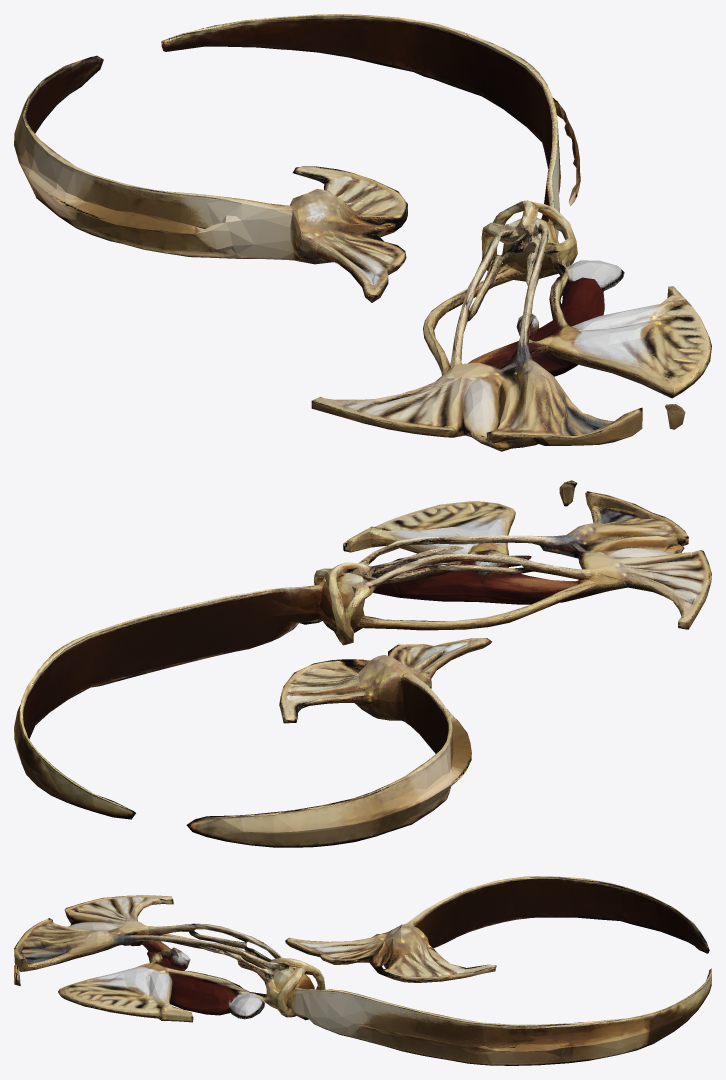
The model's file is flower.glb.
3 views of the same model, one above another, from view 1: azimuth 30°, elevation 25°; view 2: azimuth 150°, elevation 25°; view 3: azimuth 270°, elevation 25° (orthographic). The views are drawn at different scales.
Visible parts, largest first — view 1: world; view 2: world; view 3: world.
Part boxes in pixels (x1=…): world: x1=14, y1=14, x2=711, y2=451; world: x1=14, y1=480, x2=711, y2=847; world: x1=14, y1=876, x2=711, y2=1065.
Bounding box in the file's own units: 0.5482 × 0.0963 × 0.9986.
1 material, 1 textured.
